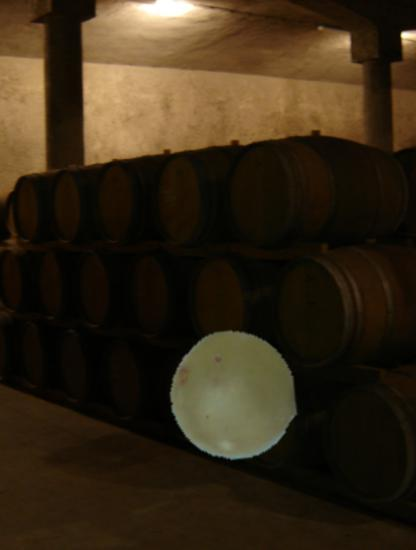Grape: (166, 329, 300, 463)
